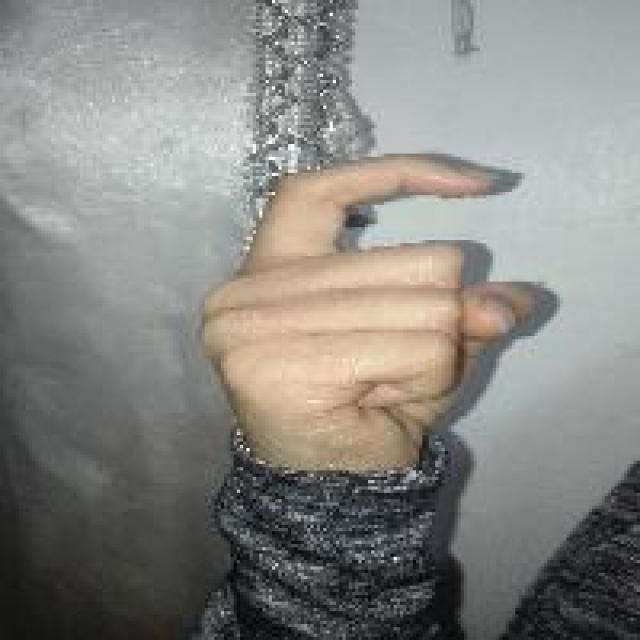X: (190, 150, 542, 464)
